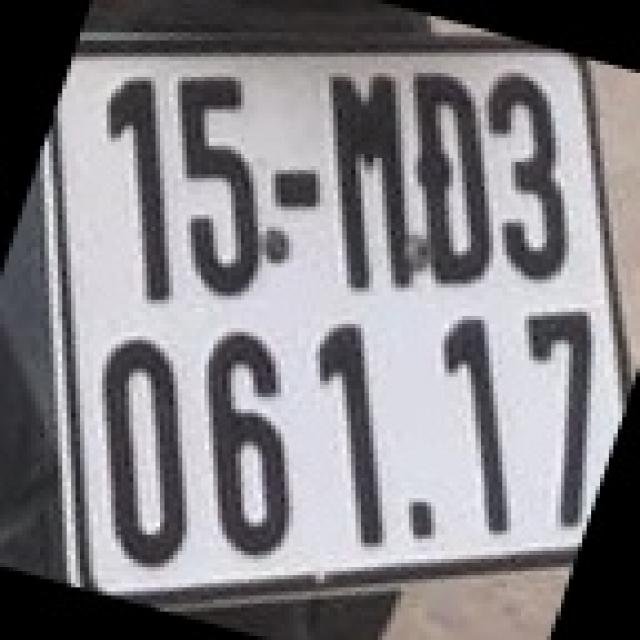0: (102, 336, 191, 567)
1: (311, 320, 400, 547), (436, 316, 524, 539), (102, 77, 174, 300)
3: (489, 73, 573, 279)
5: (178, 77, 262, 296)
6: (200, 332, 298, 559)
7: (524, 297, 618, 528)
D: (411, 65, 496, 288)
M: (324, 69, 418, 292)
